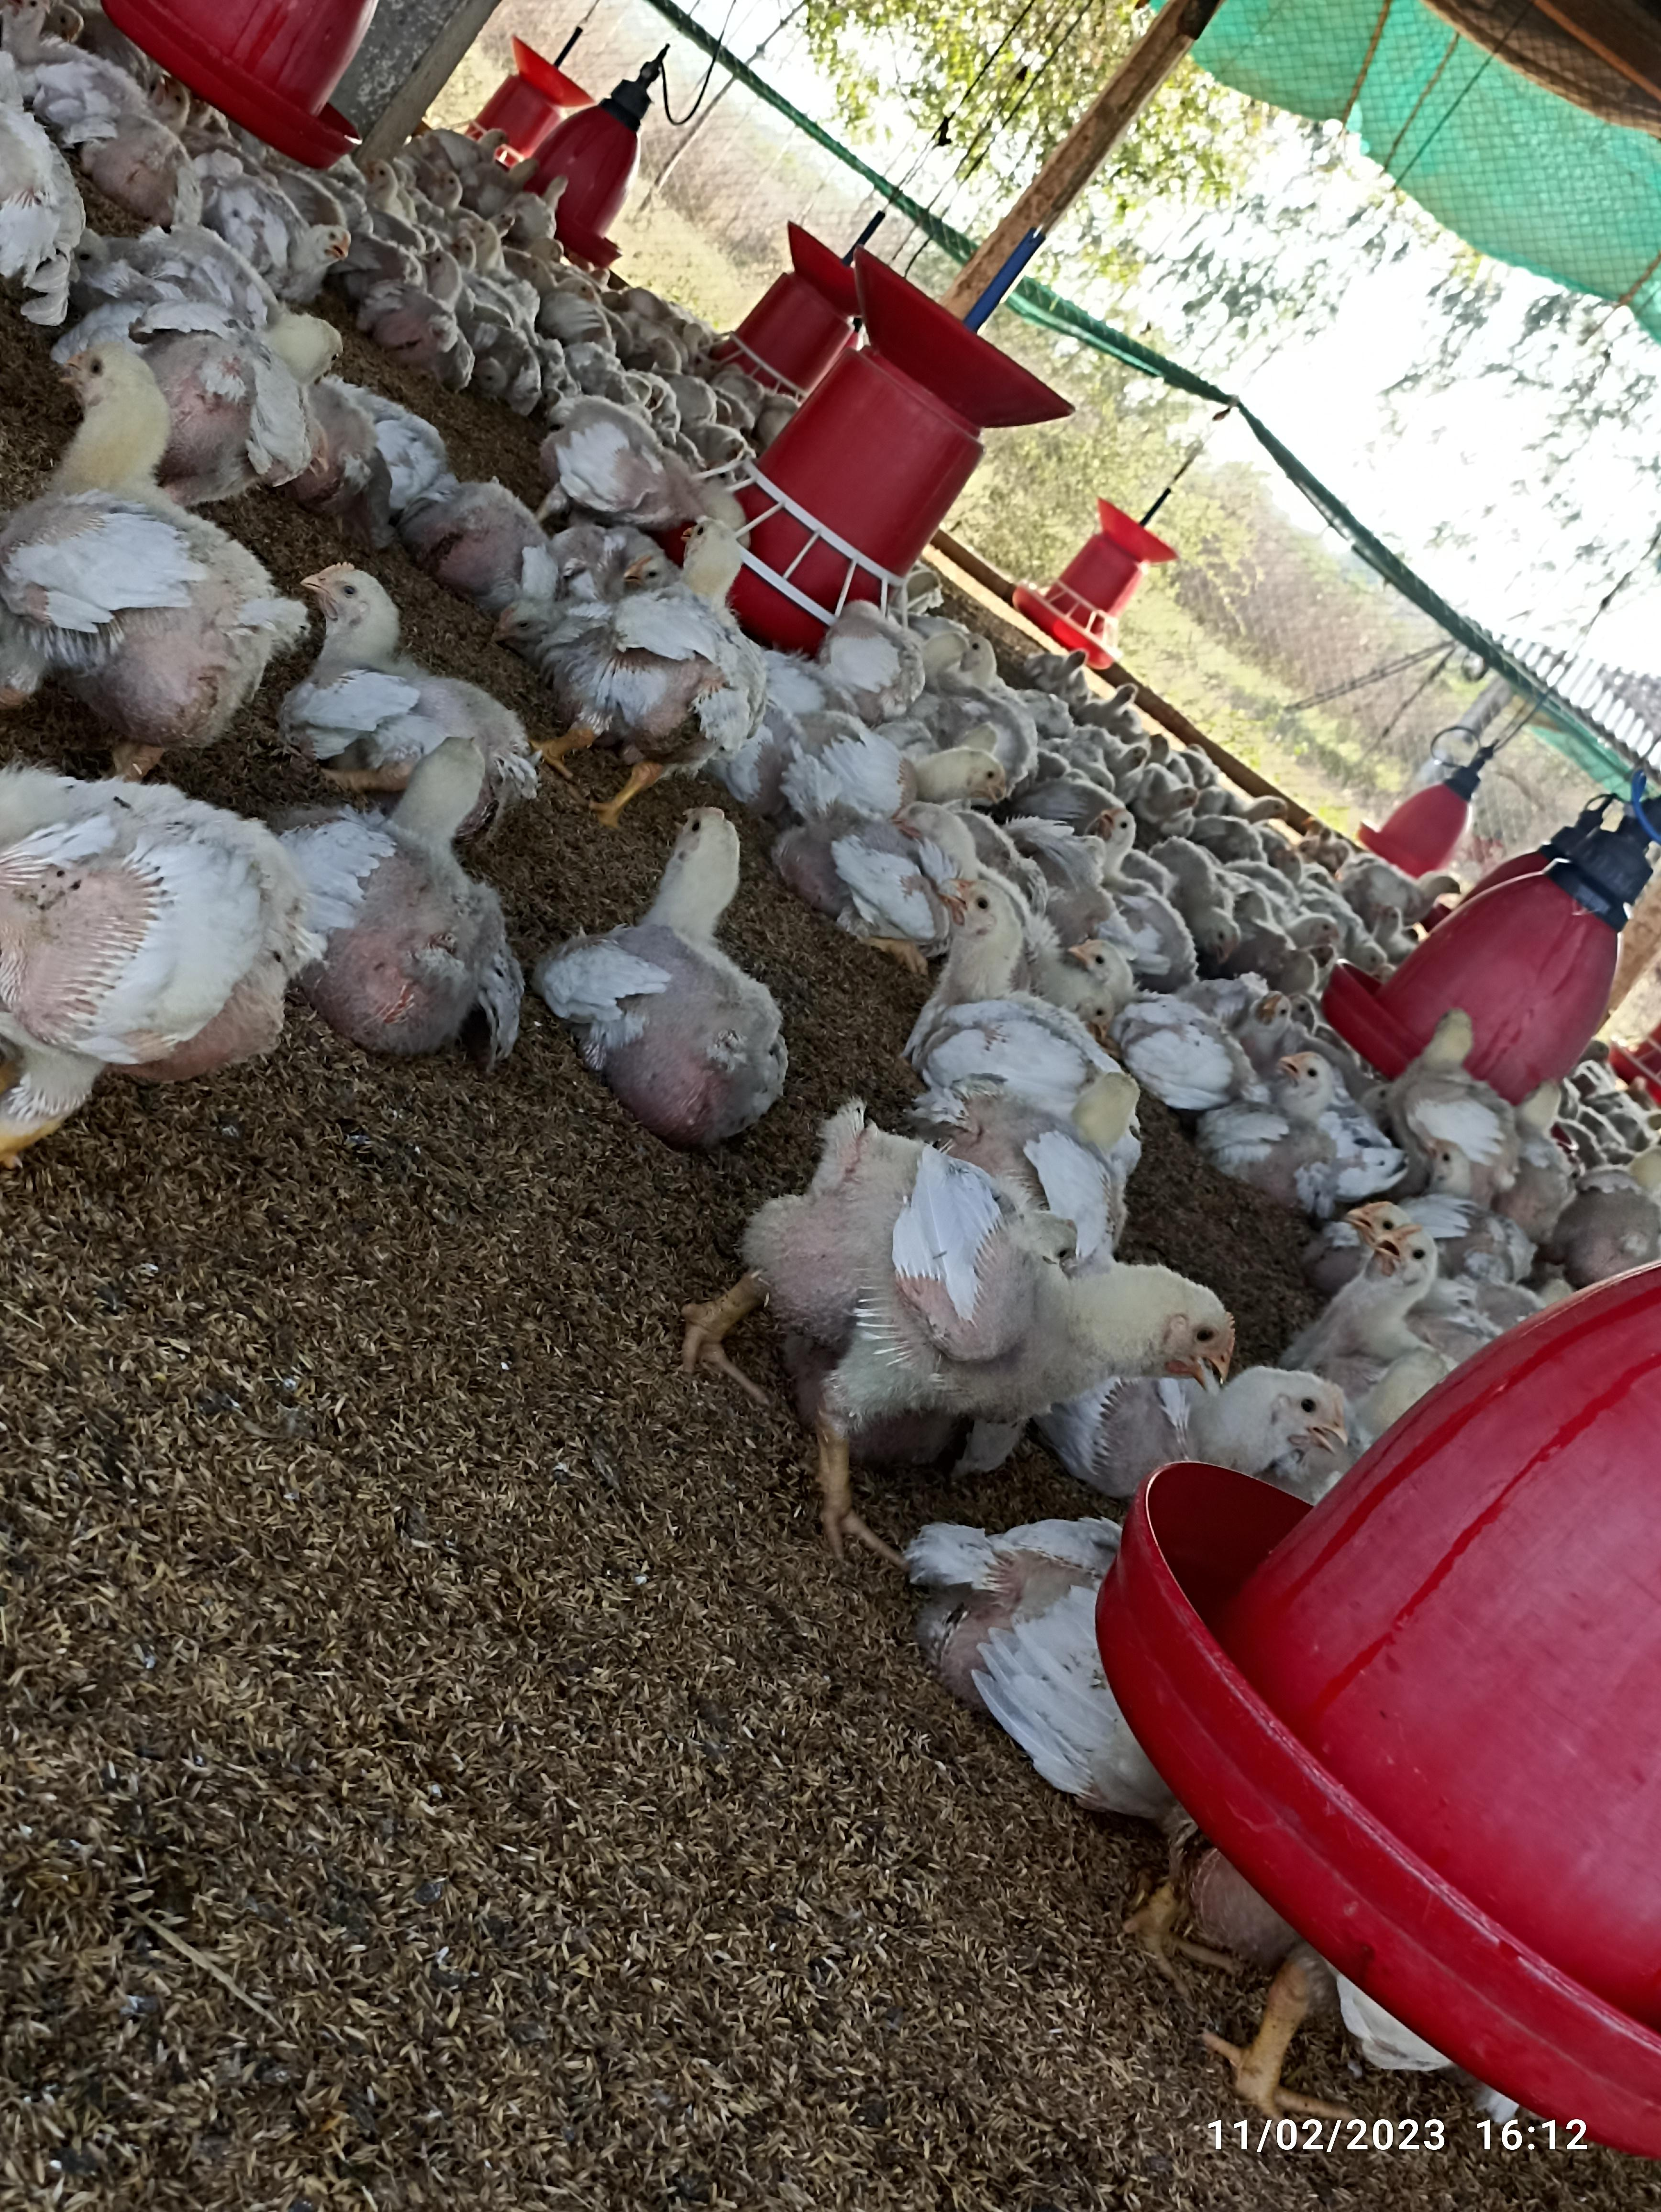Pollos: (811, 1120, 1249, 1403), (26, 333, 276, 745), (0, 773, 305, 1085), (548, 802, 794, 1109), (262, 776, 522, 1041), (926, 860, 1145, 1123), (291, 553, 525, 792), (558, 506, 761, 745), (1288, 1207, 1462, 1427), (1234, 1038, 1391, 1214)
